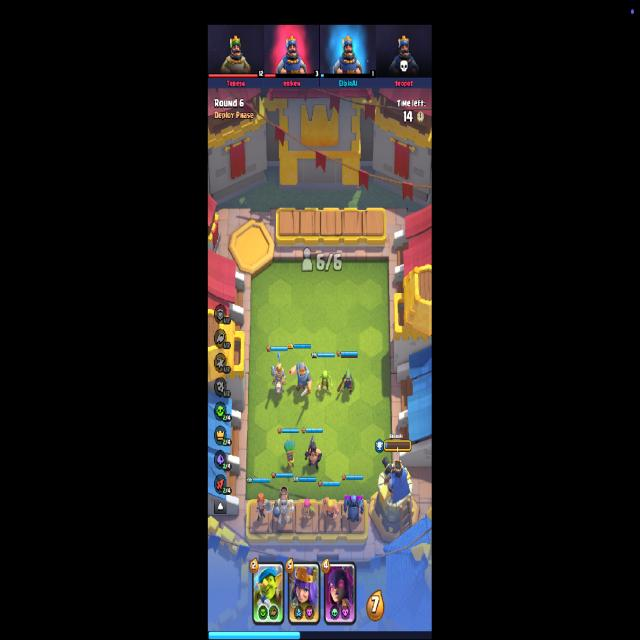archer: (302, 497, 315, 522)
bandit: (337, 368, 355, 394)
barbarian: (317, 498, 340, 524)
card_archer_queen: (288, 562, 320, 624)
card_spear_goblin: (252, 560, 284, 625)
card_witch: (324, 559, 356, 625)
dart_goblin: (284, 439, 296, 471)
executioner: (304, 434, 323, 471)
giant_skeleton: (274, 488, 293, 523)
goblin: (316, 370, 334, 396)
knight: (290, 363, 312, 395)
pekka: (342, 493, 366, 526)
prince: (270, 352, 286, 394)
valkyrie: (255, 493, 271, 524)
